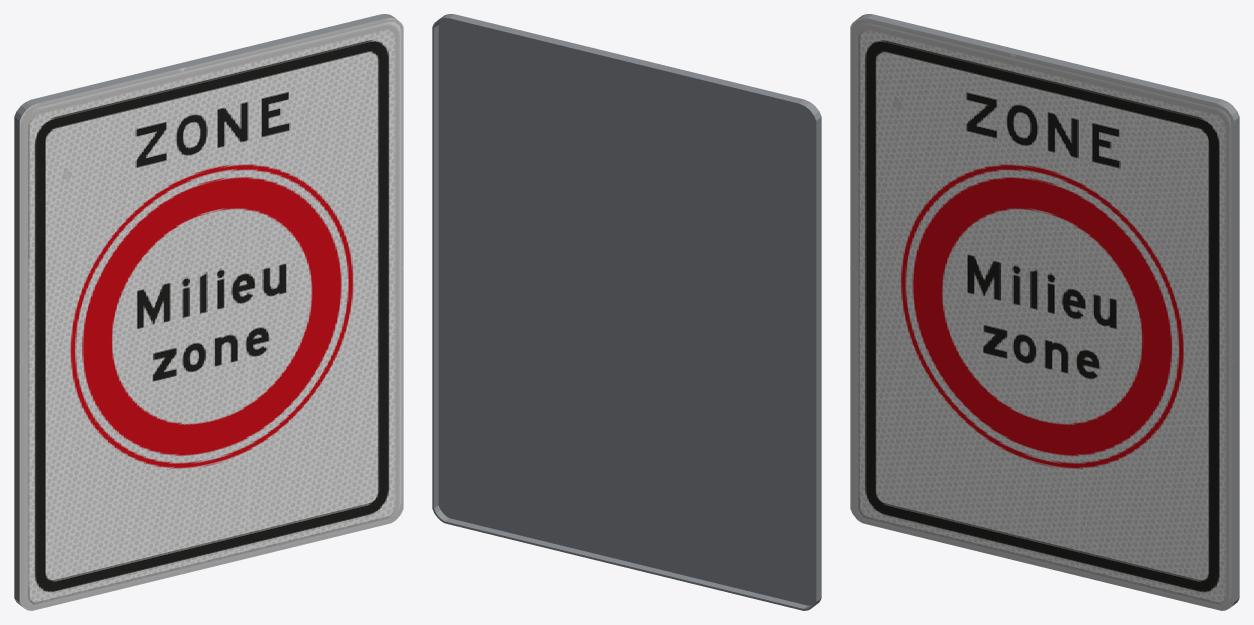
3 views of the same model, side by side, from view 1: azimuth 30°, elevation 25°; view 2: azimuth 150°, elevation 25°; view 3: azimuth 330°, elevation 25° (orthographic).
Visible parts, largest first — view 1: cat_ed38af5fda46f9e3; view 2: cat_ed38af5fda46f9e3; view 3: cat_ed38af5fda46f9e3.
Boxes of the visible parts, x1=… form: cat_ed38af5fda46f9e3: x1=14, y1=14, x2=403, y2=610; cat_ed38af5fda46f9e3: x1=432, y1=14, x2=821, y2=610; cat_ed38af5fda46f9e3: x1=850, y1=14, x2=1239, y2=610.
Size of the model in its own units: 0.6 by 0.015 by 0.7558.
Materials: 2 (1 with a texture image).
